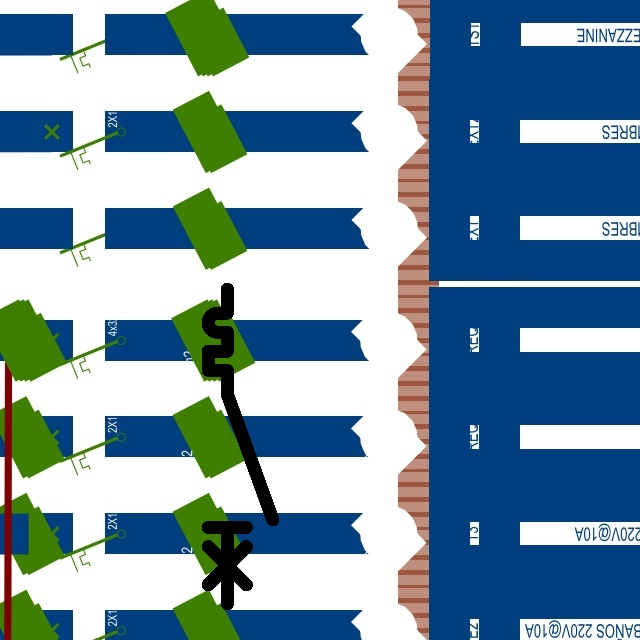interruptor_termomagnetico: (200, 281, 281, 612)
